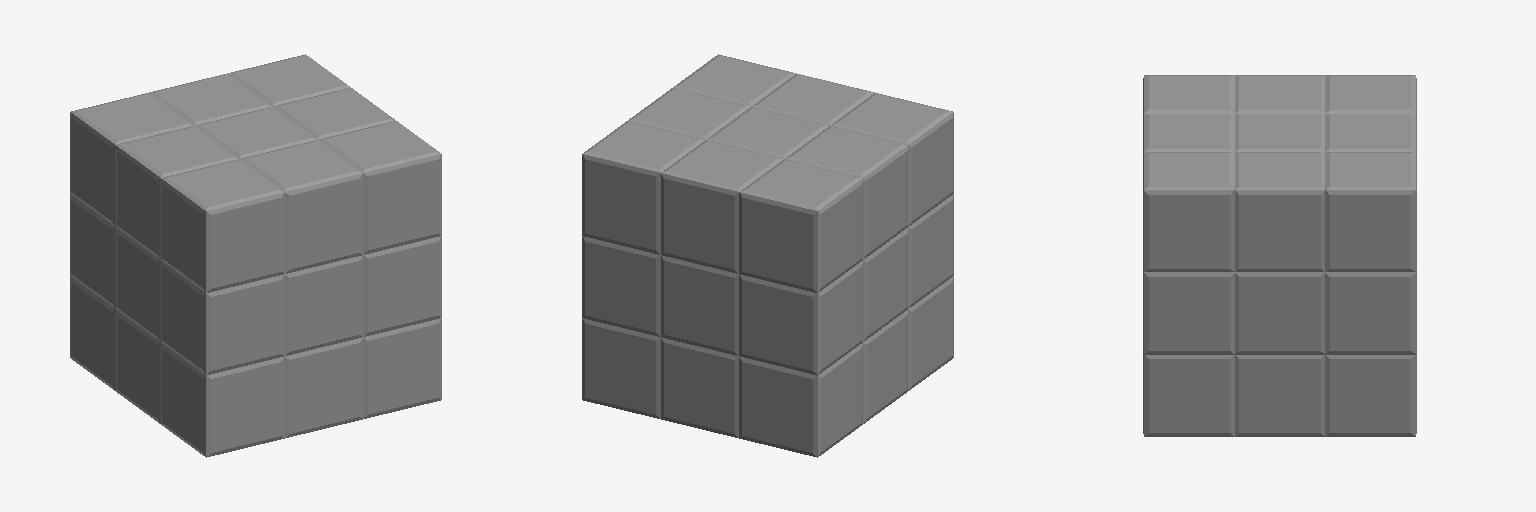
File: sample.obj
The picture shows the model from 3 angles: view 1: azimuth 30°, elevation 25°; view 2: azimuth 150°, elevation 25°; view 3: azimuth 270°, elevation 25°; orthographic projection.
Parts seen in each view (by area): view 1: Cubo; view 2: Cubo; view 3: Cubo.
Part boxes in pixels (left/top/right/bottom): Cubo: left=70, top=54, right=441, bottom=457; Cubo: left=582, top=54, right=953, bottom=457; Cubo: left=1143, top=75, right=1416, bottom=436.
Bounding box in the file's own units: 21.99 × 21.99 × 21.99.